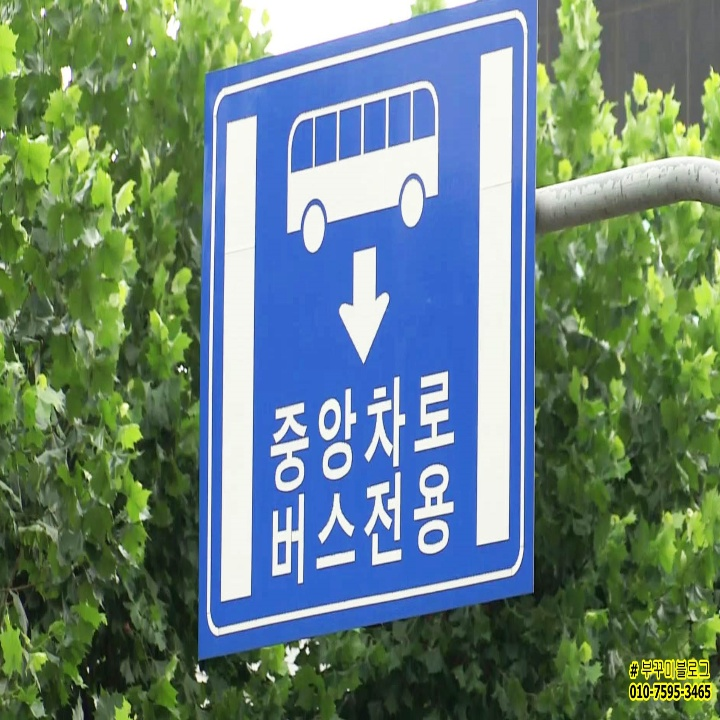bus: (269, 72, 449, 248)
